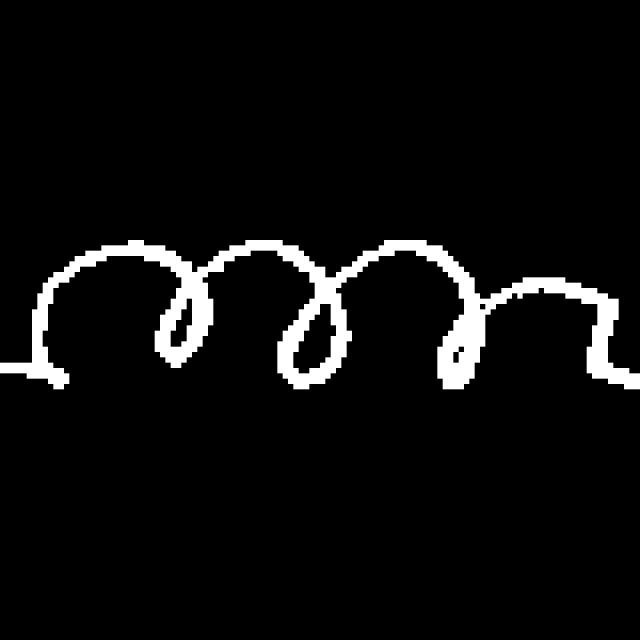inductor: (20, 229, 615, 414)
